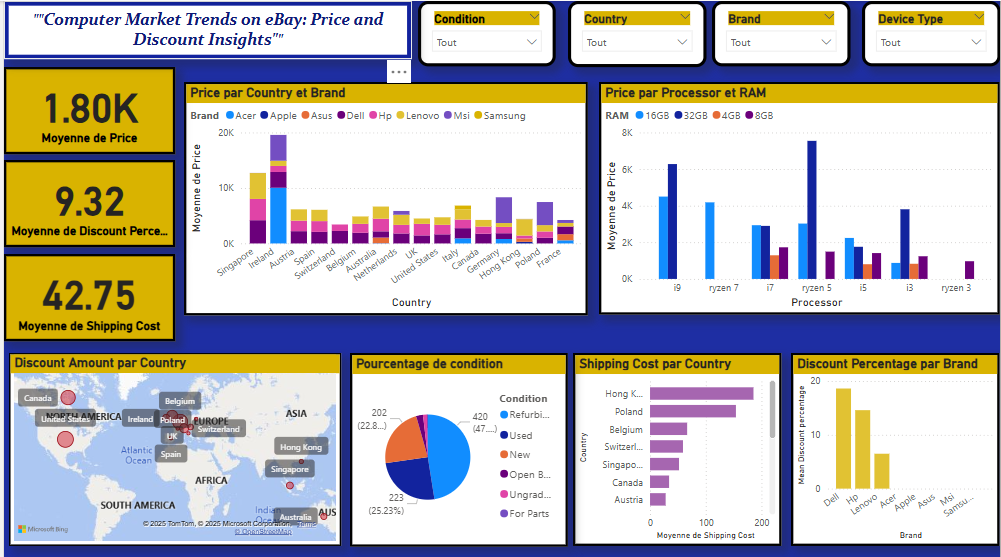

Layout of this report page (visuals, bound fields, positions):
{"tool":"powerbi","page":{"name":"Page 1","canvas":[1280,720],"ordinal":0},"visuals":[{"type":"columnChart","title":" Price par Country et Brand","fields":{"Category":["output.Country"],"Y":["Avg(output.Price)"],"Series":["output.Brand"]},"box":[231.7,104.5,519.4,299.8],"z":0},{"type":"actionButton","box":[0,0,100,40],"z":1000},{"type":"card","fields":{"Values":["Avg(output.Price)"]},"box":[0,84.8,219.6,112.1],"z":2000},{"type":"slicer","fields":{"Values":["output.Country"]},"box":[724.4,0,177.8,85],"z":3000},{"type":"slicer","fields":{"Values":["output.Brand"]},"box":[910,0,177.8,83.7],"z":4000},{"type":"map","title":"Discount Amount par Country","fields":{"Category":["output.Country"],"Size":["Avg(output.Discount Amount)"]},"box":[6.7,452.5,426.7,248.3],"z":5000},{"type":"barChart","title":" Shipping Cost par Country","fields":{"Y":["Avg(output.Shipping Cost)"],"Category":["output.Country"]},"box":[730.8,452.5,268.3,248.3],"z":6000},{"type":"slicer","fields":{"Values":["output.Device Type"]},"box":[1102.2,0,177.8,83.7],"z":7000},{"type":"clusteredColumnChart","fields":{"Category":["output.Brand"],"Y":["Avg(output.Discount Percentage)"]},"box":[1011.5,452.7,268,248.3],"z":8000},{"type":"pieChart","title":"Pourcentage de  condition ","fields":{"Category":["output.Condition"],"Y":["CountNonNull(output.Condition)"]},"box":[444.3,452.9,280,248.6],"z":9000},{"type":"slicer","fields":{"Values":["output.Condition"]},"box":[531.7,0,177,84.2],"z":10000},{"type":"card","fields":{"Values":["Avg(output.Discount Percentage)"]},"box":[0,204.4,219.6,112],"z":11000},{"type":"card","fields":{"Values":["Avg(output.Shipping Cost)"]},"box":[0,325.6,219.7,112.4],"z":12000},{"type":"textbox","box":[0,0,524.2,75],"z":13000},{"type":"clusteredColumnChart","title":"Price par Processor et RAM","fields":{"Y":["Avg(output.Price)"],"Category":["output.Processor"],"Series":["output.RAM"]},"box":[764.9,104.6,515.2,299.4],"z":14000}]}

Visuals, with their boxes in screenshot pixels (x1, y1, x2, y2), scaled from the page's 1280x720 canvas onto the 1001x557 screenshot:
" Price par Country et Brand" columnChart: x1=181, y1=81, x2=587, y2=313
actionButton: x1=0, y1=0, x2=78, y2=31
card - Avg(output.Price): x1=0, y1=66, x2=172, y2=152
slicer - output.Country: x1=567, y1=0, x2=706, y2=66
slicer - output.Brand: x1=712, y1=0, x2=851, y2=65
"Discount Amount par Country" map: x1=5, y1=350, x2=339, y2=542
" Shipping Cost par Country" barChart: x1=572, y1=350, x2=781, y2=542
slicer - output.Device Type: x1=862, y1=0, x2=1000, y2=65
clusteredColumnChart - output.Brand x Avg(output.Discount Percentage): x1=791, y1=350, x2=1000, y2=542
"Pourcentage de  condition " pieChart: x1=347, y1=350, x2=566, y2=543
slicer - output.Condition: x1=416, y1=0, x2=554, y2=65
card - Avg(output.Discount Percentage): x1=0, y1=158, x2=172, y2=245
card - Avg(output.Shipping Cost): x1=0, y1=252, x2=172, y2=339
textbox: x1=0, y1=0, x2=410, y2=58
"Price par Processor et RAM" clusteredColumnChart: x1=598, y1=81, x2=1000, y2=313
